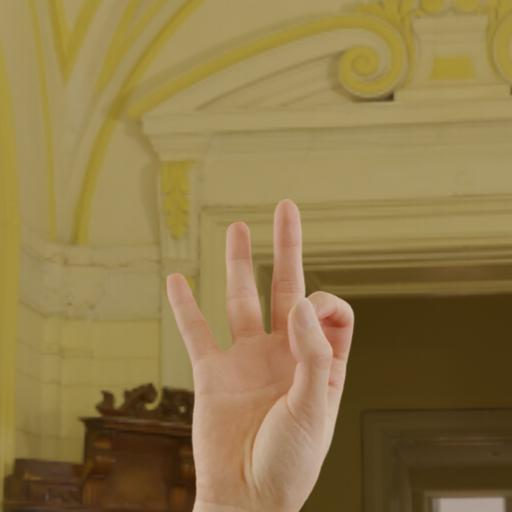F: (134, 194, 392, 492)
